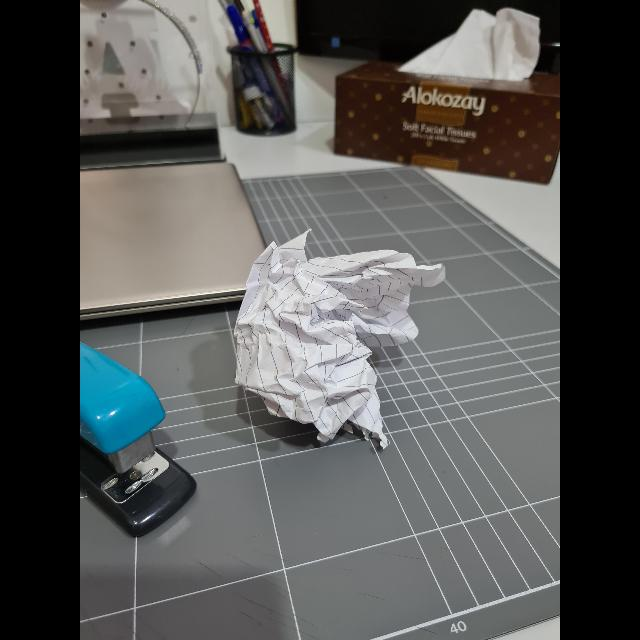trash: (230, 231, 446, 445)
